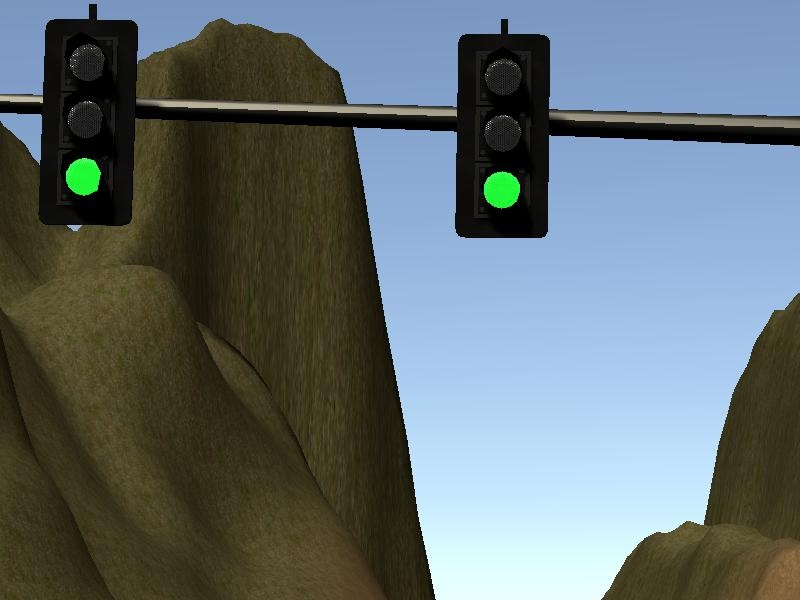green: (36, 16, 139, 228), (452, 31, 550, 242)
